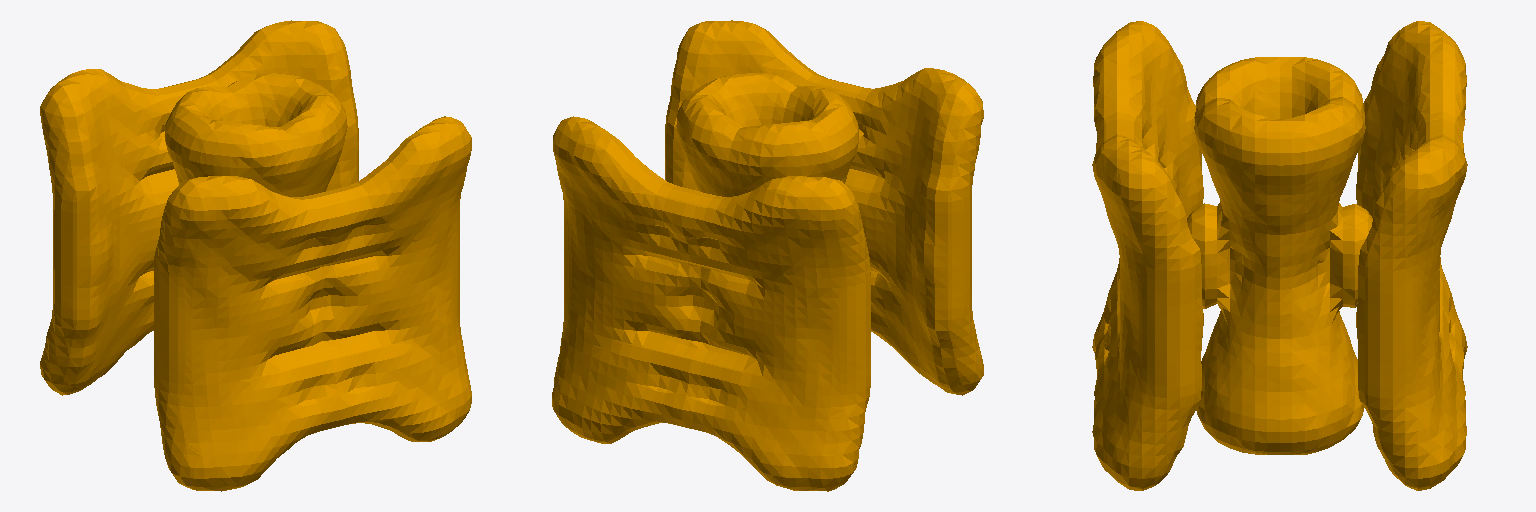
URDF robot description (object):
<?xml version="1.0"?>
        <robot name="object">
          <link name="object">
            <visual>
              <origin xyz="0.0 0.0 0.0"/>
              <geometry>
                <mesh filename="F4.stl" scale="1.00 1.00 1.00"/>
              </geometry>
            </visual>
            <collision>
              <origin xyz="0.0 0.0 0.0"/>
              <geometry>
                <mesh filename="F4.stl" scale="1.00 1.00 1.00"/>
              </geometry>
            </collision>
          </link>
        </robot>

--- Render facts (derived) ---
Views: 3 orthographic renders of the robot side by side, from view 1: azimuth 30°, elevation 25°; view 2: azimuth 150°, elevation 25°; view 3: azimuth 270°, elevation 25°.
Robot: object — 1 links, 0 joints (none); root link object; default pose: all joints at 0.
Visible links, largest first — view 1: object; view 2: object; view 3: object.
Boxes of the visible links, left/top/right/bottom form: object: left=40, top=20, right=471, bottom=491; object: left=552, top=20, right=983, bottom=491; object: left=1092, top=21, right=1467, bottom=490.
Size in the robot's own frame: 0.0996 by 0.1 by 0.0993 metres.
1 mesh visuals loaded from 1 distinct referenced files (1 binary STL).